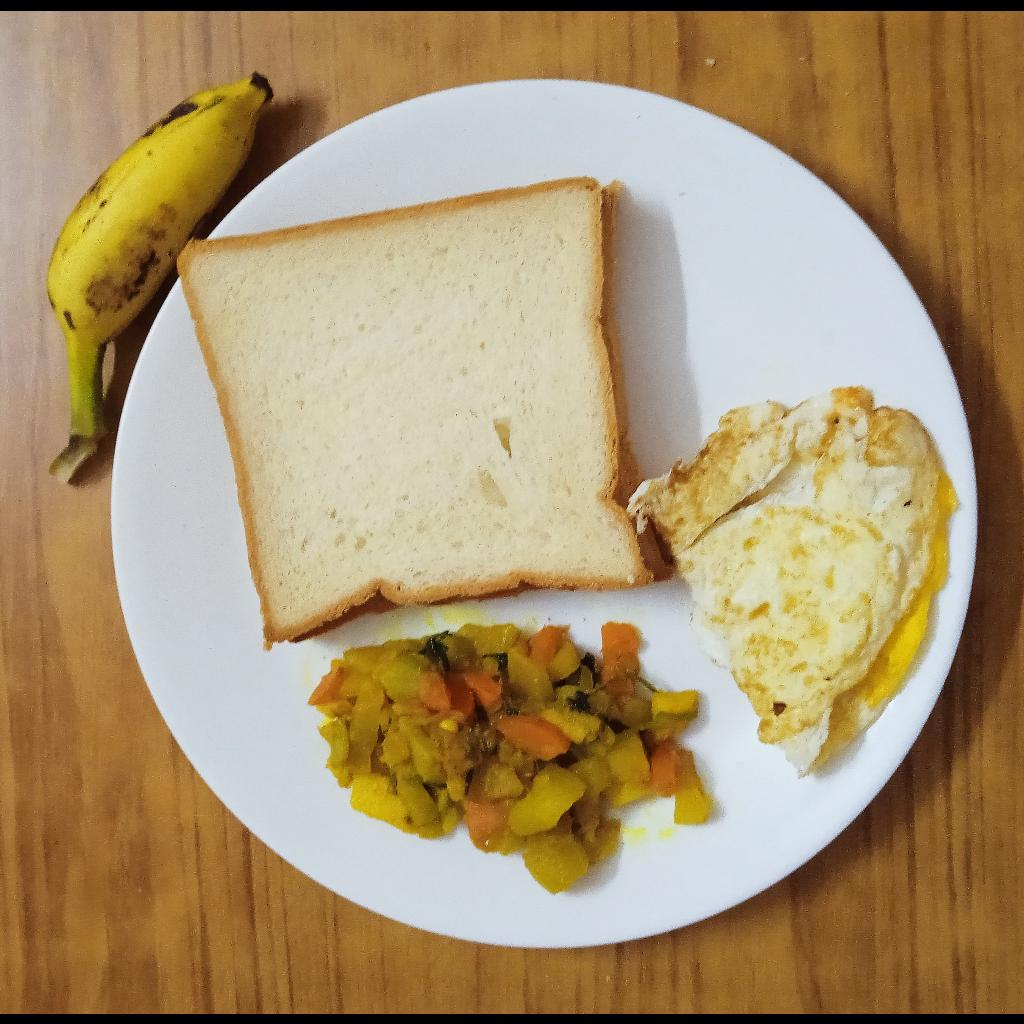banana: (40, 71, 272, 439)
bread: (175, 173, 672, 651)
egg-poached: (632, 383, 957, 781)
vegetable: (305, 621, 712, 896)
